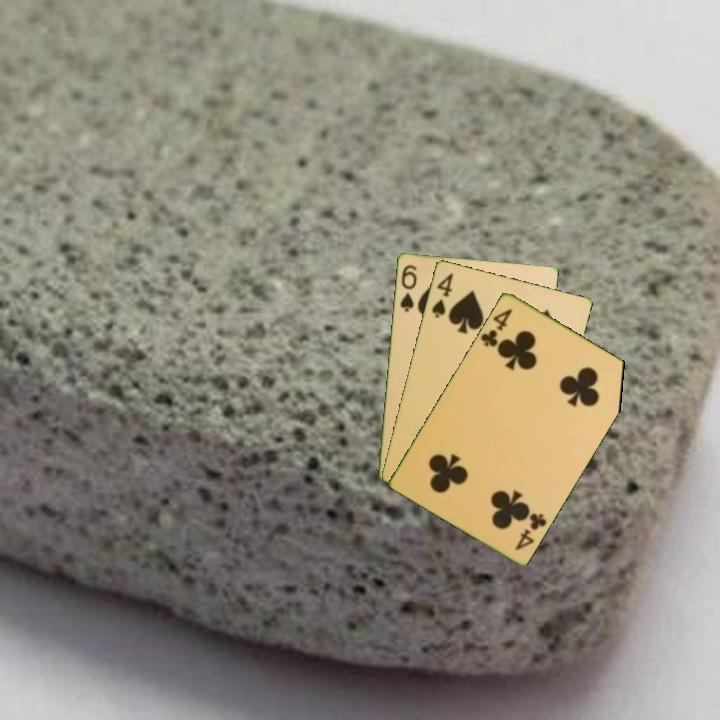4c: (511, 509, 550, 553), (477, 305, 515, 350)
4s: (428, 269, 456, 320)
6s: (396, 261, 419, 314)
